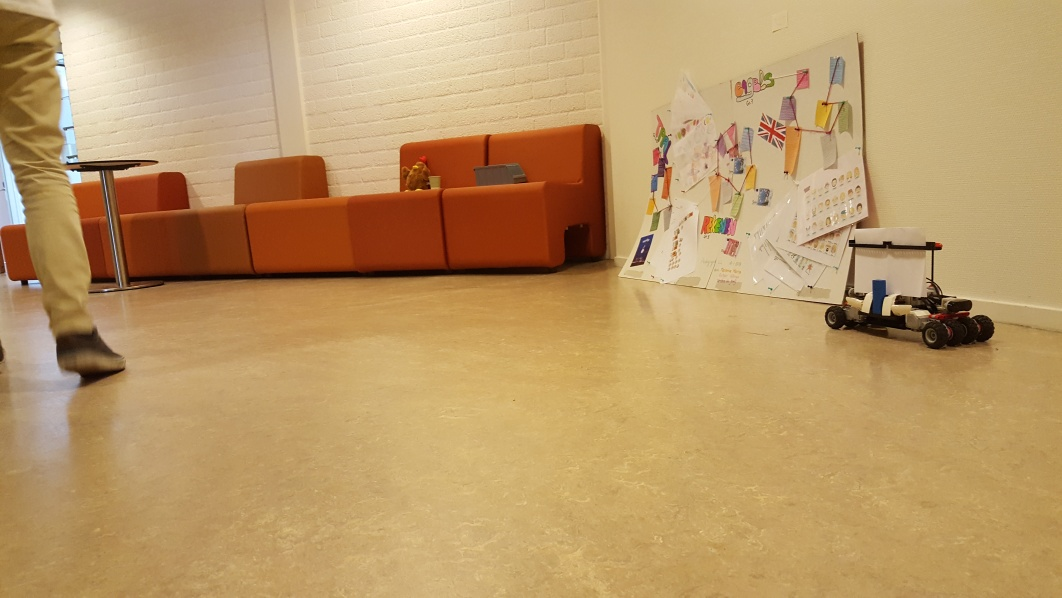car: (824, 225, 997, 350)
chicken: (399, 156, 429, 193)
cup: (427, 174, 441, 192)
tray: (469, 164, 528, 187)
